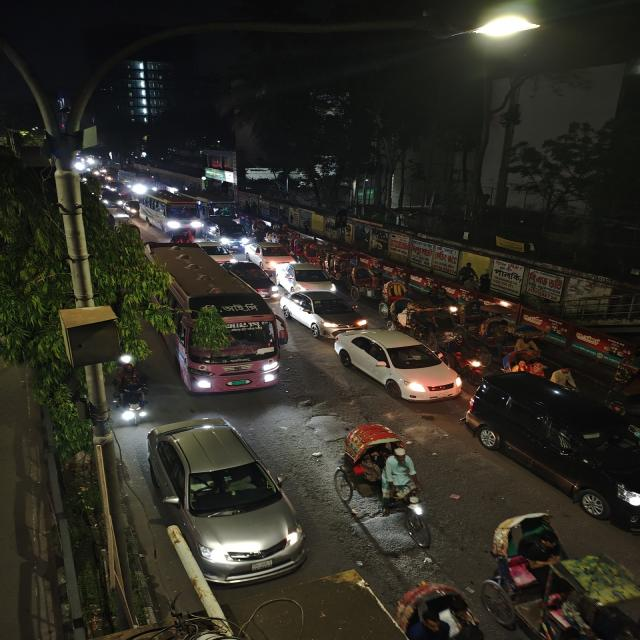bus: (146, 247, 284, 398), (139, 192, 197, 235), (198, 194, 238, 220), (125, 172, 157, 195)
car: (145, 424, 306, 580), (467, 378, 635, 512), (341, 332, 460, 403), (279, 285, 369, 338), (237, 264, 285, 298), (278, 267, 334, 293), (245, 241, 292, 269), (206, 218, 248, 249), (207, 242, 240, 264), (101, 194, 123, 209), (122, 202, 138, 216)
motorcycle: (106, 365, 156, 433)
rickshaw: (484, 516, 638, 636), (338, 421, 442, 551), (492, 317, 548, 373), (318, 246, 367, 289), (453, 298, 491, 352), (378, 276, 408, 323), (351, 268, 384, 304)
